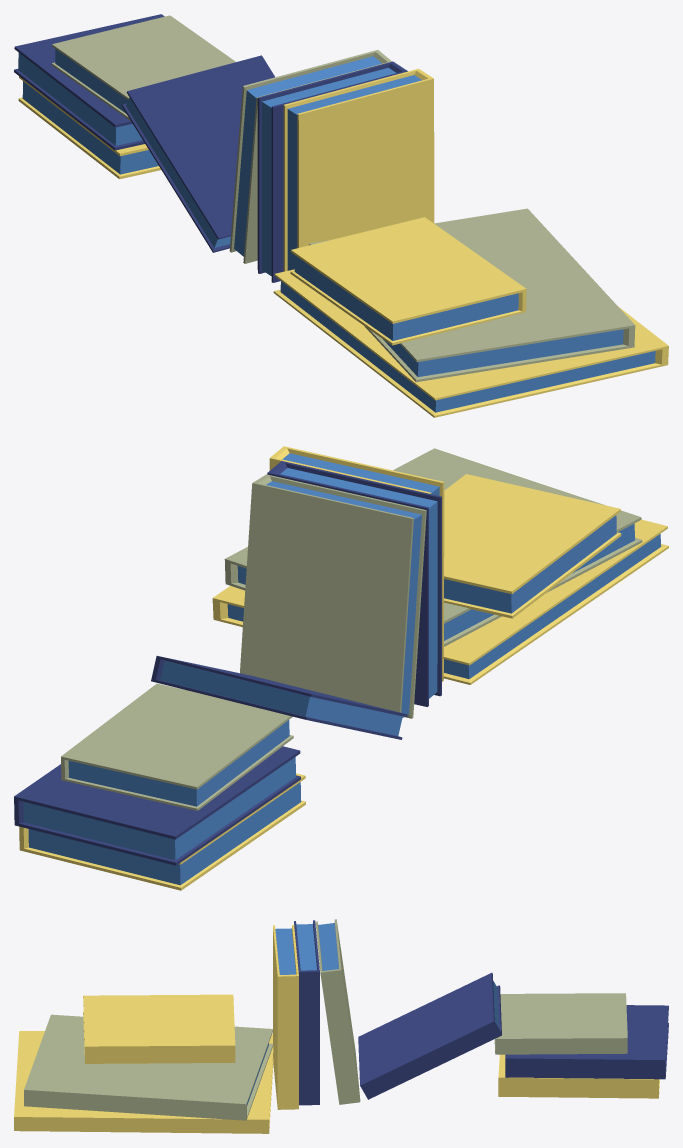
The model's file is Bedroom3_Books9.fbx.
The picture shows the model from 3 angles, top to bottom: view 1: azimuth 30°, elevation 25°; view 2: azimuth 150°, elevation 25°; view 3: azimuth 270°, elevation 25°; orthographic projection. The views are drawn at different scales.
Parts seen in each view (by area): view 1: Bedroom3_Books9; view 2: Bedroom3_Books9; view 3: Bedroom3_Books9.
Part boxes in pixels (x1,y1,x2,y2): Bedroom3_Books9: (14, 14, 668, 417); Bedroom3_Books9: (14, 446, 668, 890); Bedroom3_Books9: (14, 919, 668, 1133).
Bounding box in the file's own units: 54.08 × 37.62 × 164.
